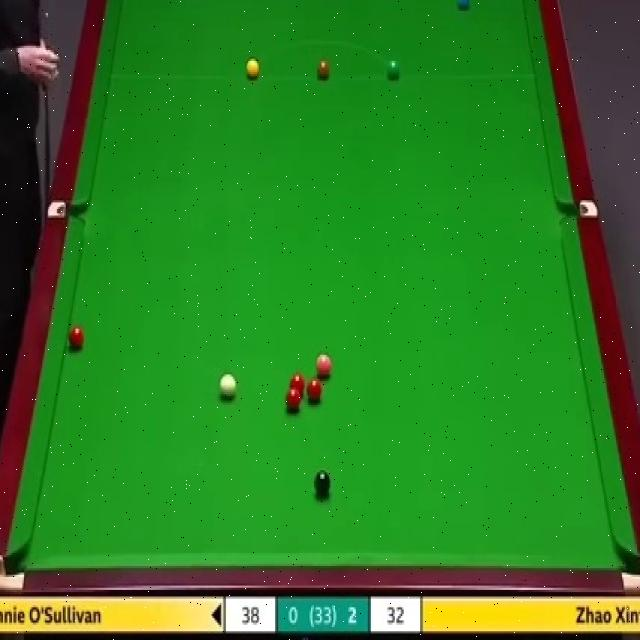black-ball: (314, 468, 332, 498)
blue-ball: (456, 0, 471, 9)
brown-ball: (316, 61, 330, 79)
green-ball: (386, 57, 401, 82)
pink-ball: (315, 352, 332, 378)
red-ball: (285, 388, 302, 411), (290, 372, 305, 398), (68, 326, 84, 350), (308, 380, 324, 402)
white-ball: (220, 371, 238, 401)
yellow-ball: (245, 58, 260, 80)
